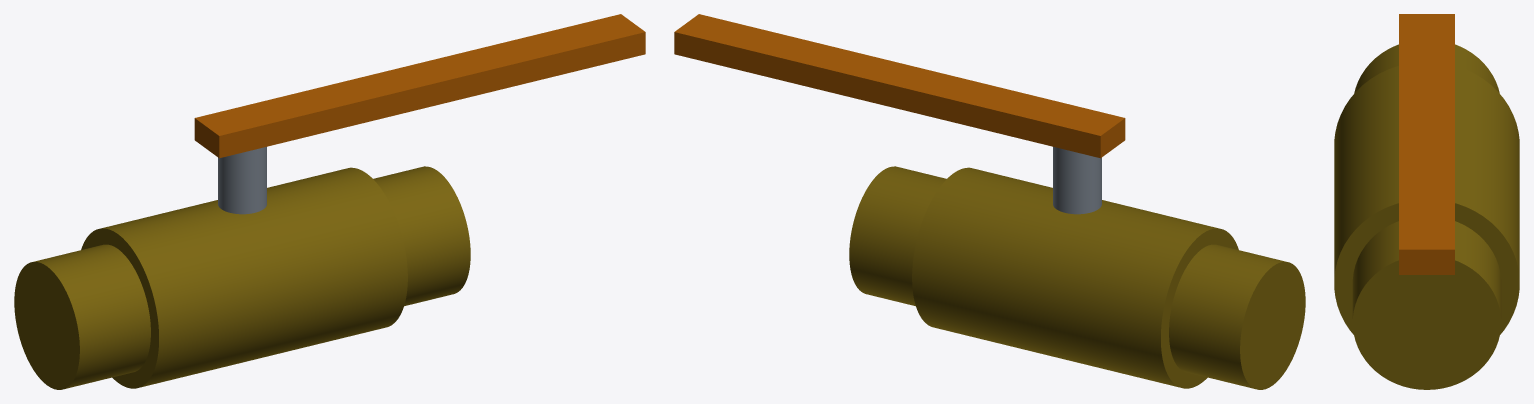
File: ball_valve.glb
The picture shows the model from 3 angles, left to right: view 1: azimuth 30°, elevation 25°; view 2: azimuth 150°, elevation 25°; view 3: azimuth 270°, elevation 25°; orthographic projection. The views are drawn at different scales.
Parts seen in each view (by area): view 1: ball_valve; view 2: ball_valve; view 3: ball_valve.
Boxes of the visible parts, <box> form: ball_valve: <box>14,14,645,389</box>; ball_valve: <box>674,14,1305,389</box>; ball_valve: <box>1334,14,1519,389</box>.
Size of the model in its own units: 0.165 by 0.063 by 0.0399.
